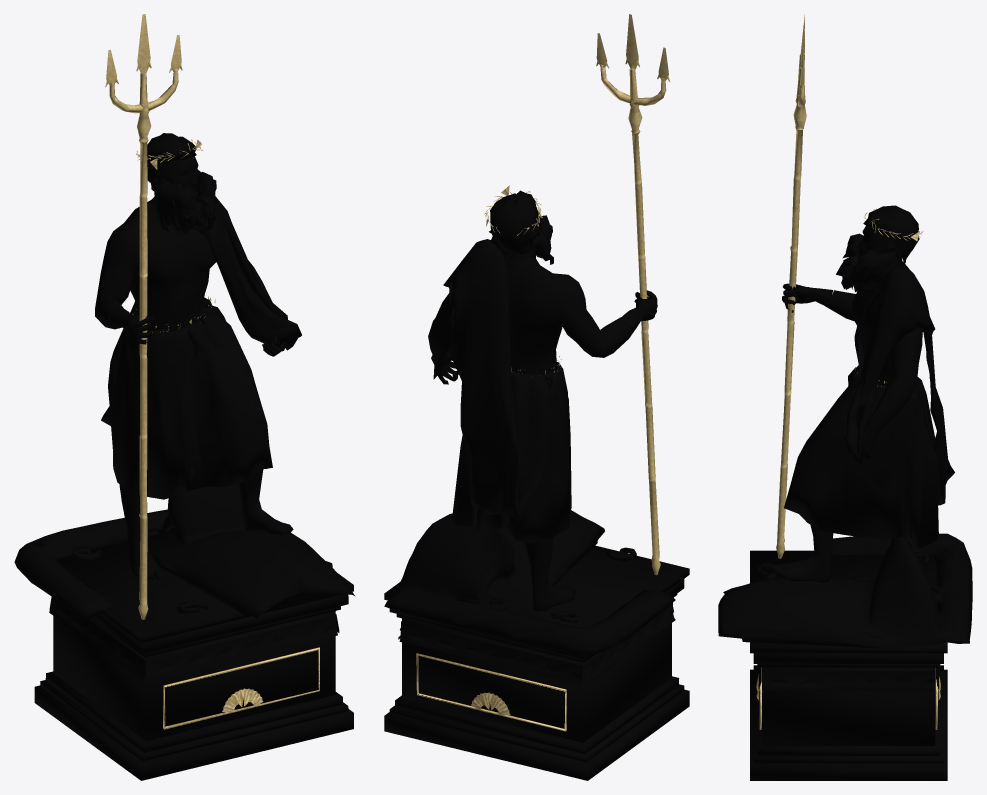
The model's file is guardian-tides-mobile.glb.
The picture shows the model from 3 angles, left to right: view 1: azimuth 30°, elevation 25°; view 2: azimuth 150°, elevation 25°; view 3: azimuth 270°, elevation 25°; orthographic projection. The views are drawn at different scales.
Visible parts, largest first — view 1: TIDES__PEDESTAL, TIDES__CLOTH, TIDES__WAVES, TIDES__BODY, TIDES__TRIDENT, TIDES__HAIR_BEARD, TIDES__DETAILS, TIDES__FACE, TIDES__HAND_GRIP; view 2: TIDES__PEDESTAL, TIDES__CLOTH, TIDES__WAVES, TIDES__BODY, TIDES__TRIDENT, TIDES__HAIR_BEARD, TIDES__DETAILS, TIDES__HAND_GRIP; view 3: TIDES__PEDESTAL, TIDES__CLOTH, TIDES__WAVES, TIDES__BODY, TIDES__TRIDENT, TIDES__HAIR_BEARD, TIDES__HAND_GRIP, TIDES__FACE, TIDES__DETAILS.
Part boxes in pixels (x1,y1,x2,y2): TIDES__PEDESTAL: [34, 533, 353, 780]; TIDES__CLOTH: [101, 196, 301, 499]; TIDES__WAVES: [14, 483, 355, 618]; TIDES__BODY: [95, 196, 293, 579]; TIDES__TRIDENT: [105, 14, 182, 619]; TIDES__HAIR_BEARD: [147, 133, 217, 234]; TIDES__DETAILS: [132, 139, 319, 729]; TIDES__FACE: [152, 156, 199, 199]; TIDES__HAND_GRIP: [109, 308, 155, 344]; TIDES__PEDESTAL: [384, 545, 689, 780]; TIDES__CLOTH: [431, 239, 571, 542]; TIDES__WAVES: [384, 510, 675, 654]; TIDES__BODY: [428, 244, 633, 611]; TIDES__TRIDENT: [596, 14, 669, 574]; TIDES__HAIR_BEARD: [489, 190, 553, 264]; TIDES__DETAILS: [416, 185, 566, 731]; TIDES__HAND_GRIP: [622, 290, 657, 333]; TIDES__PEDESTAL: [750, 550, 947, 780]; TIDES__CLOTH: [784, 265, 954, 548]; TIDES__WAVES: [718, 533, 972, 649]; TIDES__BODY: [769, 258, 924, 583]; TIDES__TRIDENT: [776, 15, 806, 558]; TIDES__HAIR_BEARD: [836, 205, 919, 292]; TIDES__HAND_GRIP: [782, 283, 833, 312]; TIDES__FACE: [857, 226, 899, 262]; TIDES__DETAILS: [756, 208, 940, 729].
Size of the model in its own units: 3.37 by 9.9 by 3.34.
Materials: 3 (3 with a texture image).
